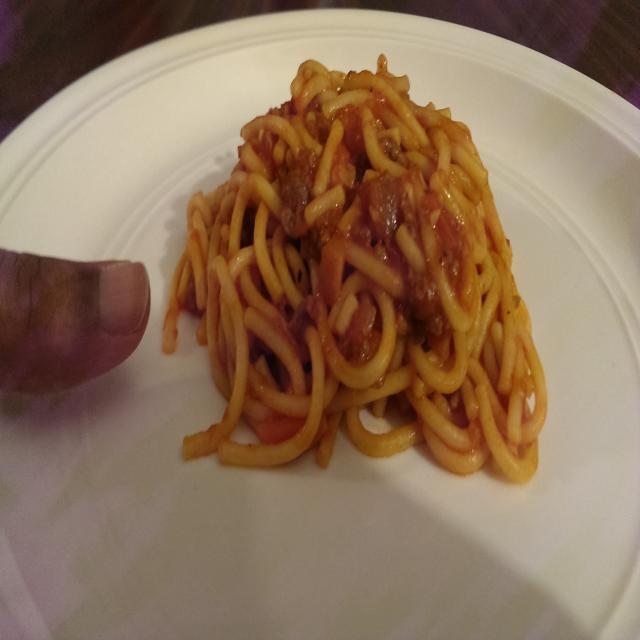pasta: (162, 52, 548, 484)
